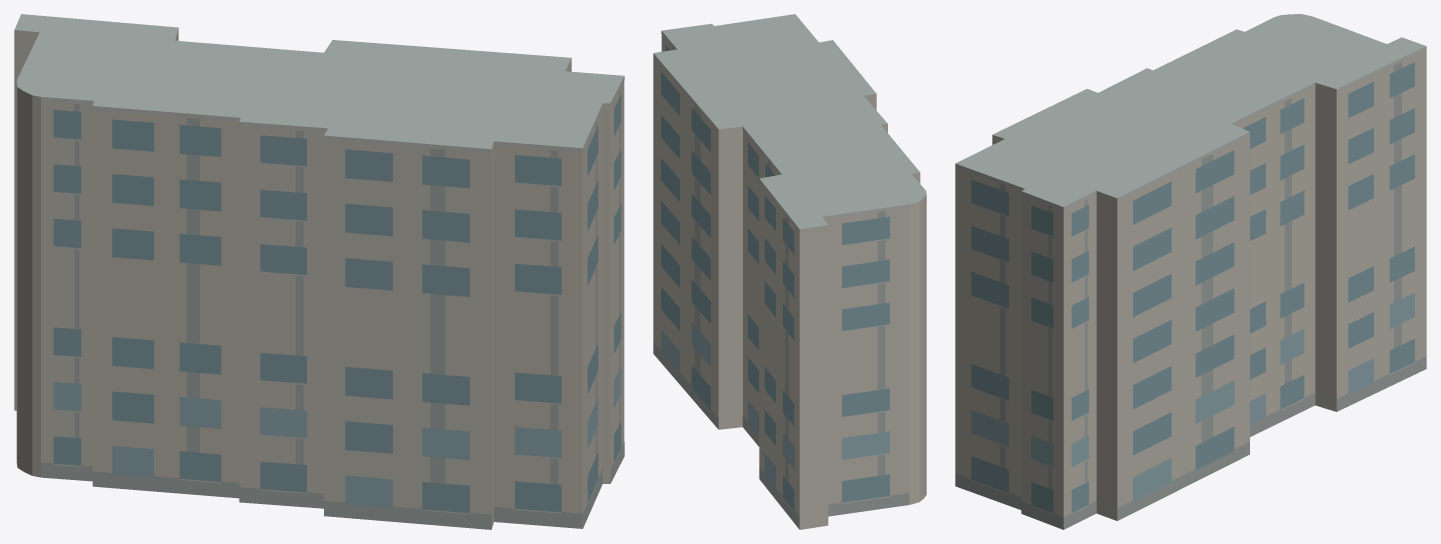
Rendered from survey-upis-32875927.glb.
The picture shows the model from 3 angles, left to right: view 1: azimuth 30°, elevation 25°; view 2: azimuth 150°, elevation 25°; view 3: azimuth 270°, elevation 25°; orthographic projection. The views are drawn at different scales.
Parts seen in each view (by area): view 1: survey-upis-32875927.tmp; view 2: survey-upis-32875927.tmp; view 3: survey-upis-32875927.tmp.
Boxes of the visible parts, x1=… form: survey-upis-32875927.tmp: x1=14, y1=14, x2=624, y2=529; survey-upis-32875927.tmp: x1=653, y1=14, x2=926, y2=529; survey-upis-32875927.tmp: x1=955, y1=14, x2=1426, y2=529.
Bounding box in the file's own units: 27.15 × 21.15 × 28.
